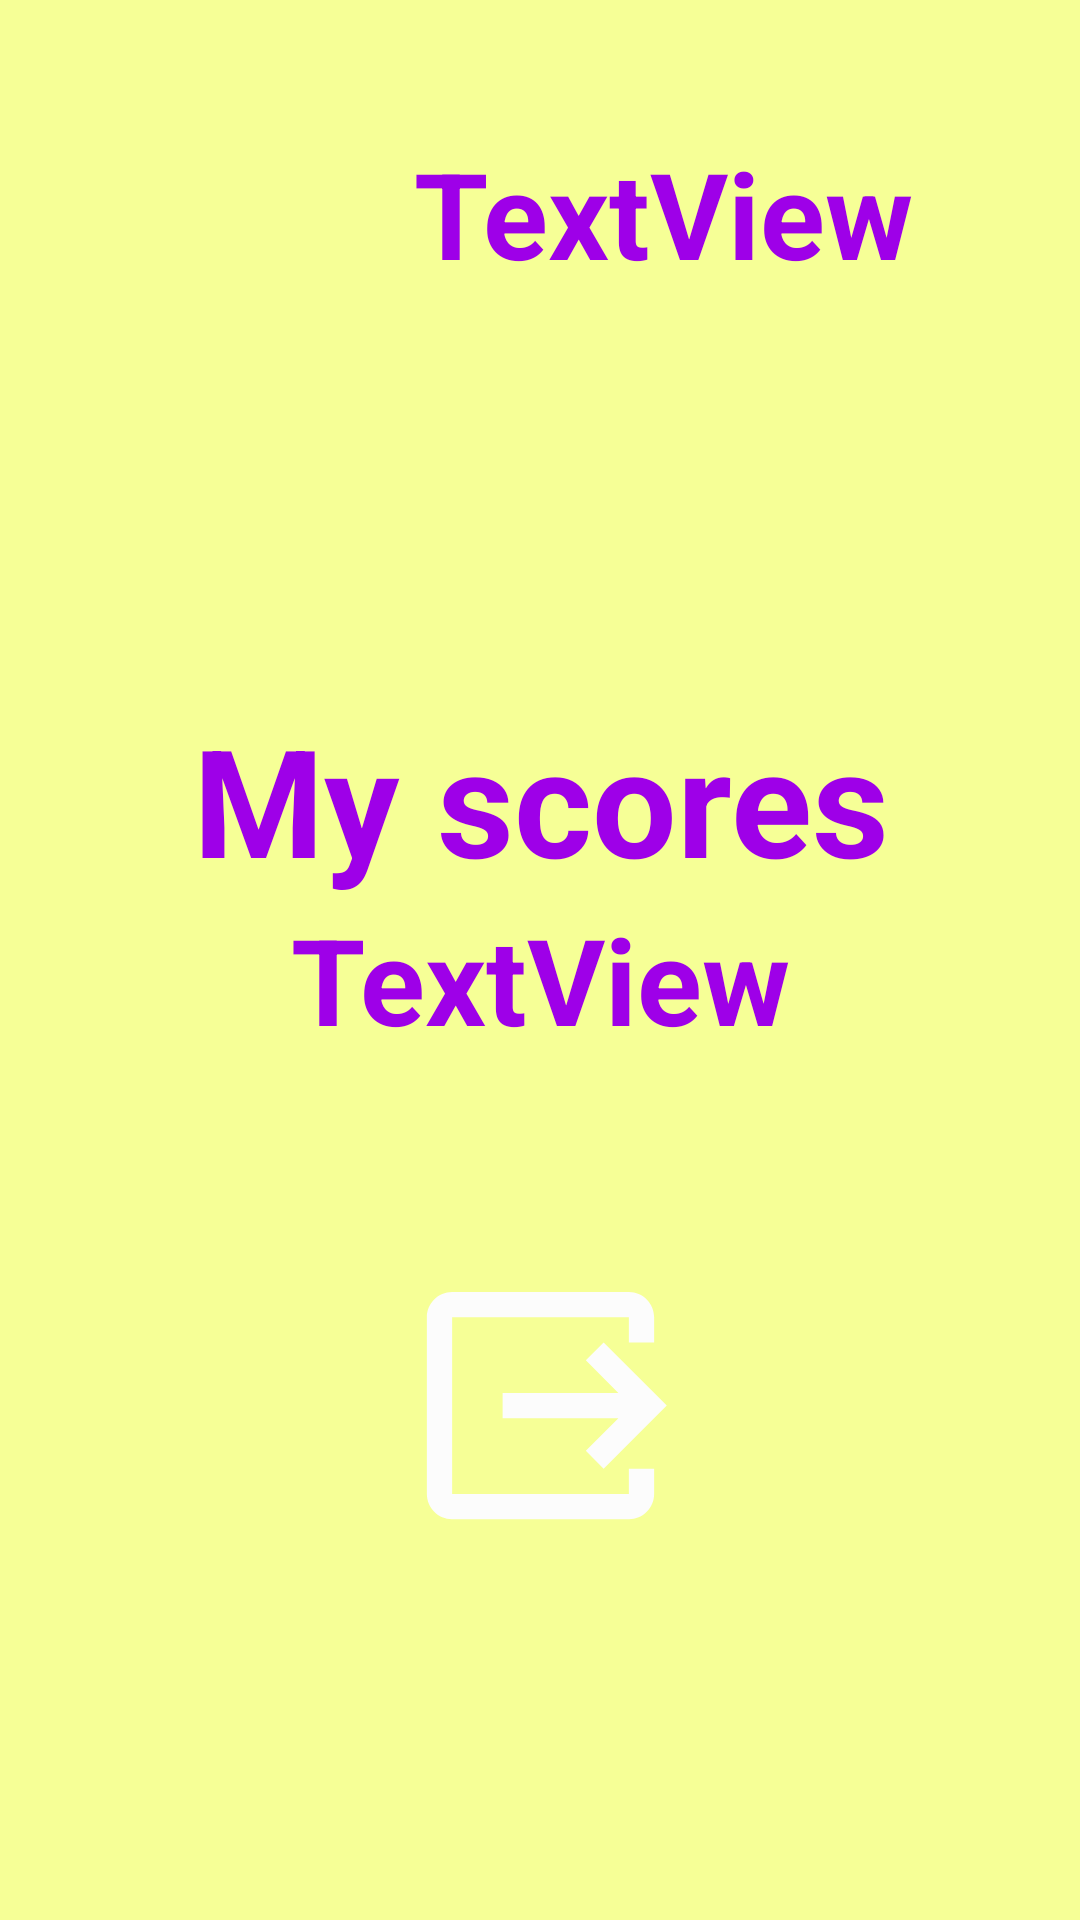

Screen size 1080w x 1920h. Icon name, then its box in pixels as (x1, y1, x2, y2):
output: (427, 1292, 667, 1520)
